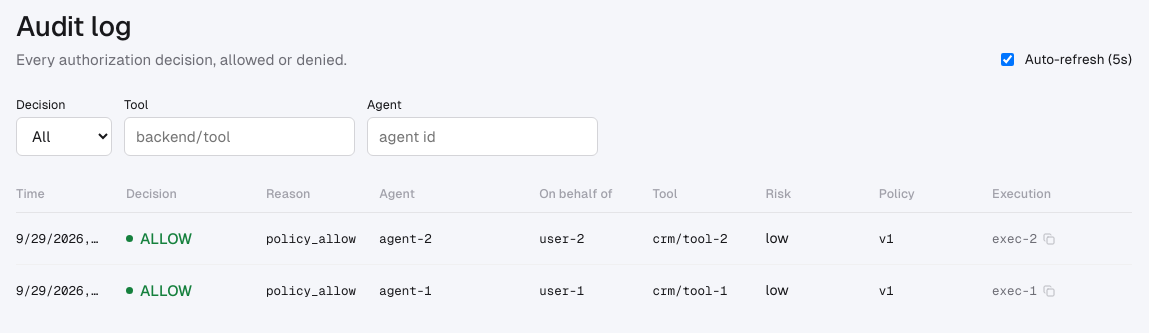
Test: AuditPage › tool and agent filters narrow rows client-side
Check: the text "crm/tool-1" is shown, box [652, 264, 766, 316]
Step 1. Type "tool-2" into the field labelled "Tool" → (240, 136), box [124, 117, 355, 156]
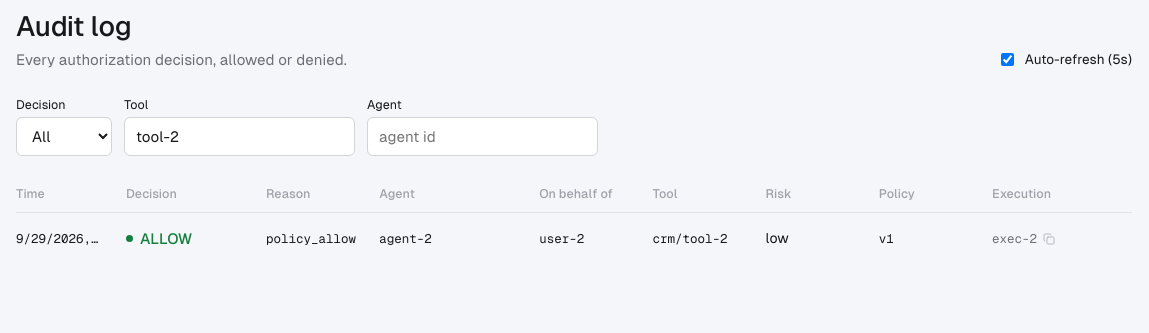
Check: the text "crm/tool-1" is gone
Step 2. Clear the field labelled "Tool" → (240, 136), box [124, 117, 355, 156]
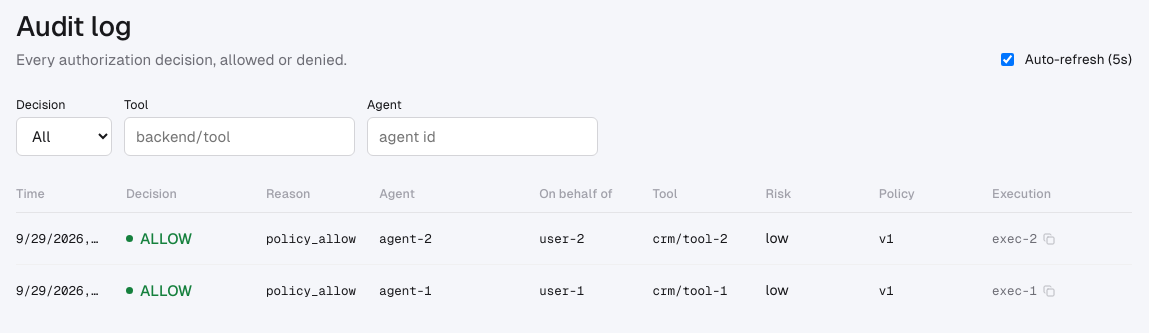
Step 3. Type "agent-1" into the field labelled "Agent" → (482, 136), box [367, 117, 598, 156]
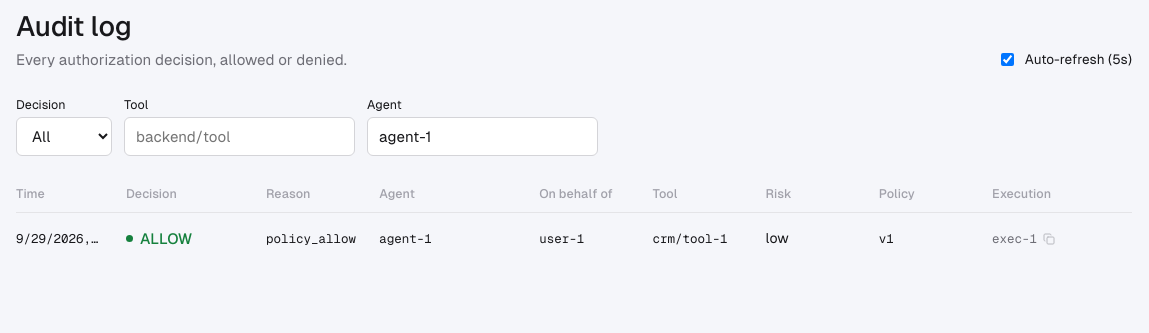
Check: the text "crm/tool-1" is shown, box [652, 212, 766, 264]
Check: the text "crm/tool-2" is gone
